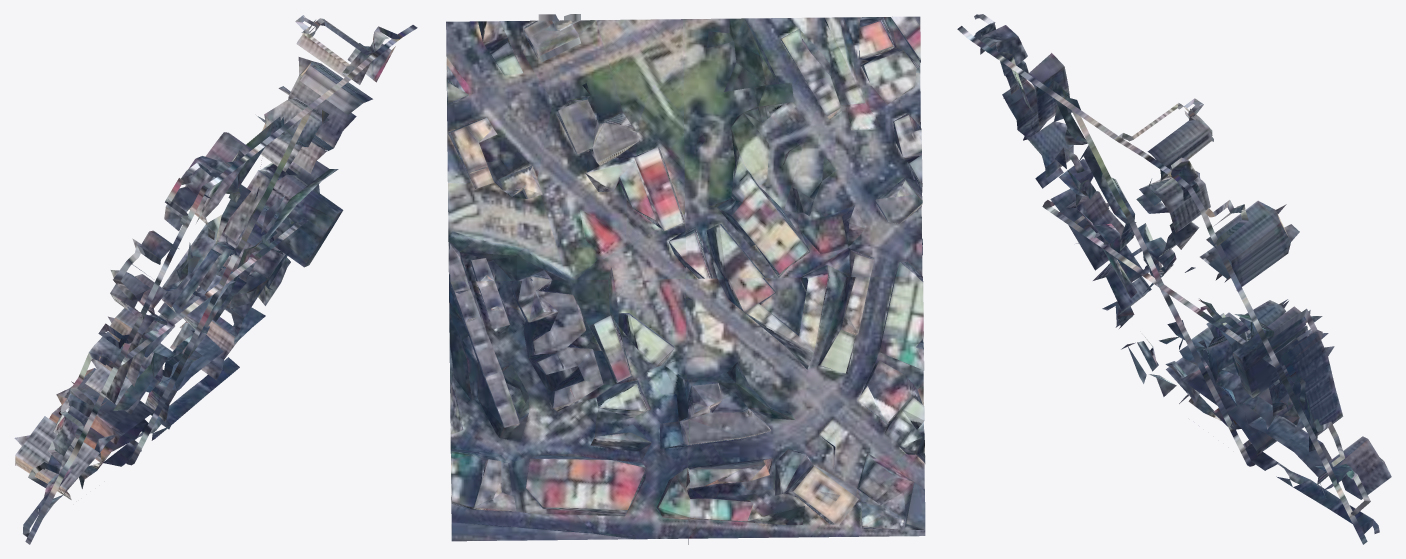
The picture shows the model from 3 angles, left to right: view 1: azimuth 30°, elevation 25°; view 2: azimuth 150°, elevation 25°; view 3: azimuth 270°, elevation 25°; orthographic projection. The views are drawn at different scales.
Size of the model in its own units: 306 by 301 by 272.
1 material, 1 textured.
